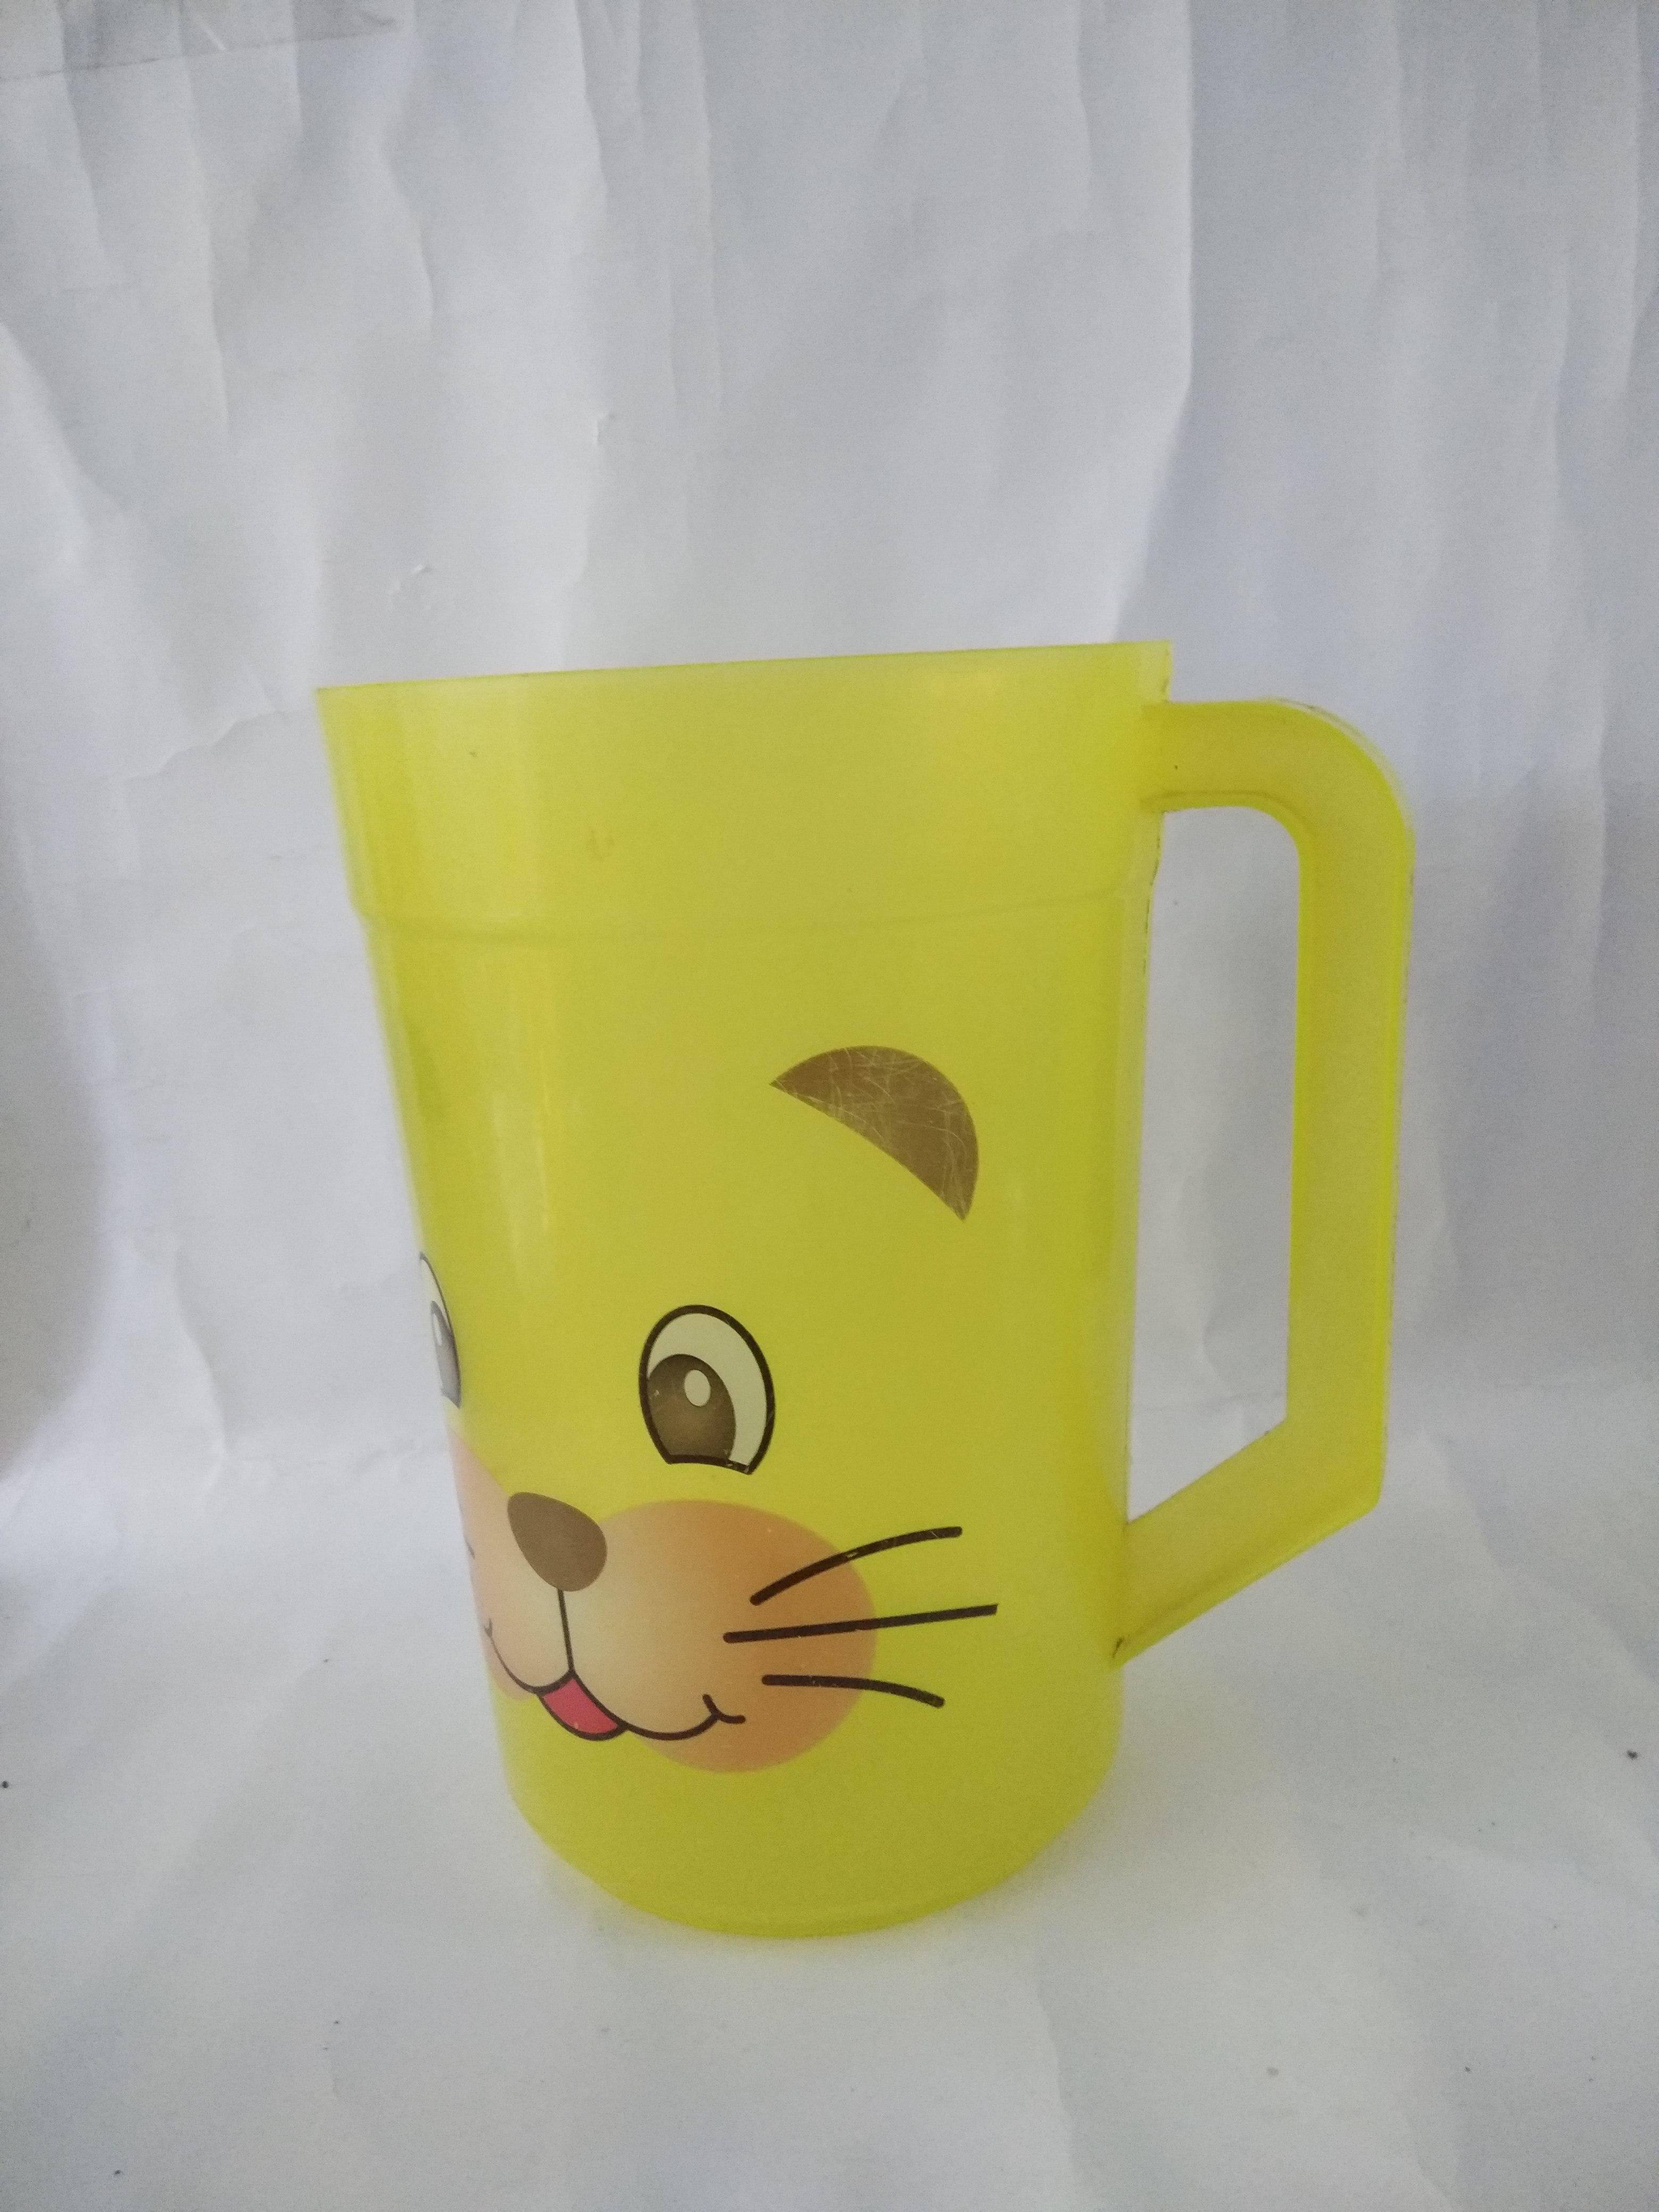PP: (315, 644, 1410, 1932)
